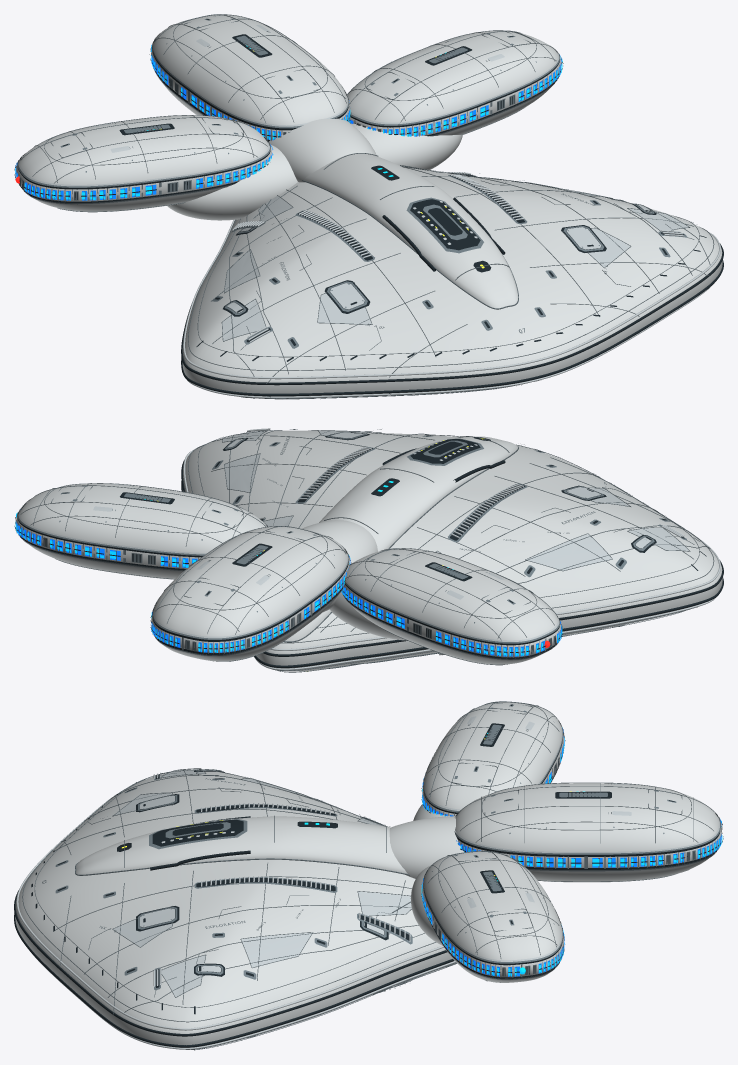
The picture shows the model from 3 angles, top to bottom: view 1: azimuth 30°, elevation 25°; view 2: azimuth 150°, elevation 25°; view 3: azimuth 270°, elevation 25°; orthographic projection.
Visible parts, largest first — view 1: body; view 2: body; view 3: body.
Boxes of the visible parts, box(x1,y1,x2,y2) form: body: box(14, 14, 723, 399); body: box(14, 428, 723, 672); body: box(14, 701, 723, 1050).
Size of the model in its own units: 193 by 62.17 by 222.
